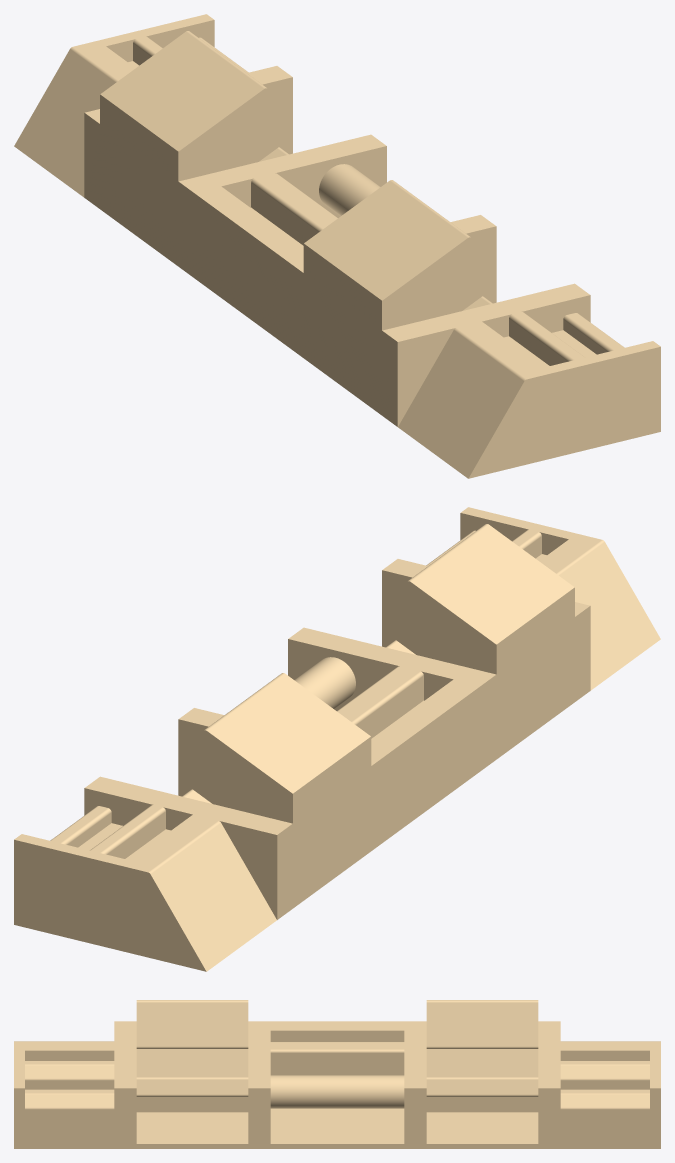
Rendered from hangboard.obj.
3 renders of one model, top to bottom at view 1: azimuth 30°, elevation 25°; view 2: azimuth 150°, elevation 25°; view 3: azimuth 270°, elevation 25°, orthographic. The views are drawn at different scales.
Visible parts, largest first — view 1: Solid1; view 2: Solid1; view 3: Solid1.
Boxes of the visible parts, x1,y1,x2,y2 form: Solid1: (14, 14, 660, 478); Solid1: (14, 507, 660, 971); Solid1: (14, 1000, 660, 1148).
Bounding box in the file's own units: 142 × 111 × 580.
